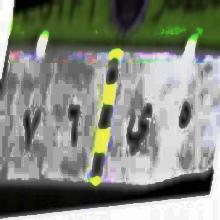6: (66, 96, 84, 158)
7: (21, 102, 42, 158)
haa: (174, 92, 193, 142)
yaa: (124, 99, 153, 159)
